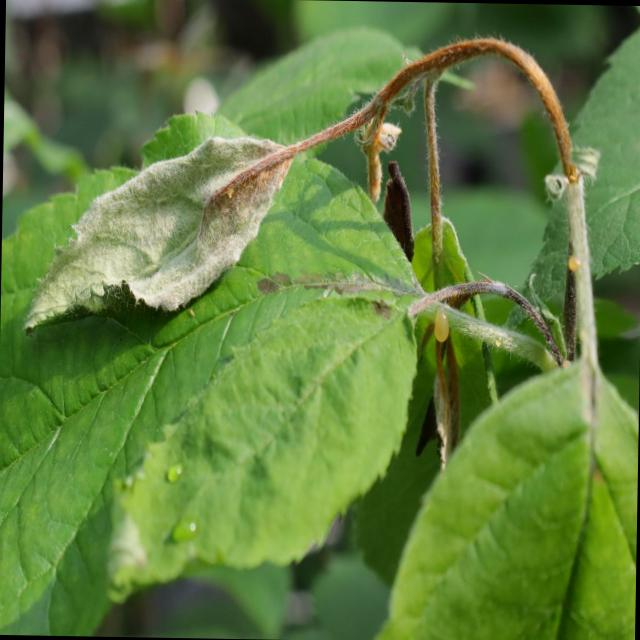-FireBlight-: (0, 19, 610, 352)
